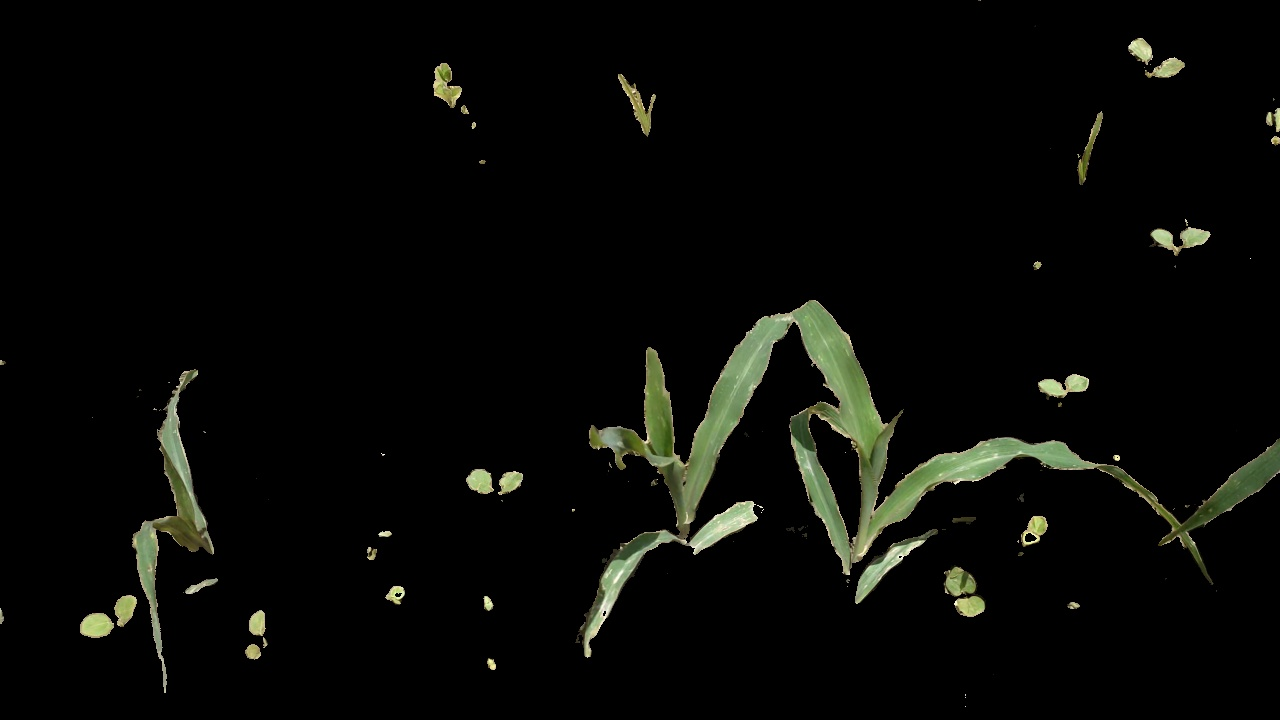crop: (798, 311, 1214, 636), (575, 294, 786, 662), (144, 346, 225, 666)
weed: (72, 582, 140, 642), (421, 58, 489, 116), (1146, 214, 1217, 261), (1035, 361, 1109, 405), (1066, 96, 1098, 196), (459, 456, 527, 503), (937, 566, 992, 624), (622, 67, 655, 141), (240, 601, 278, 662), (1133, 33, 1188, 75), (1011, 507, 1050, 545), (379, 584, 408, 611)
